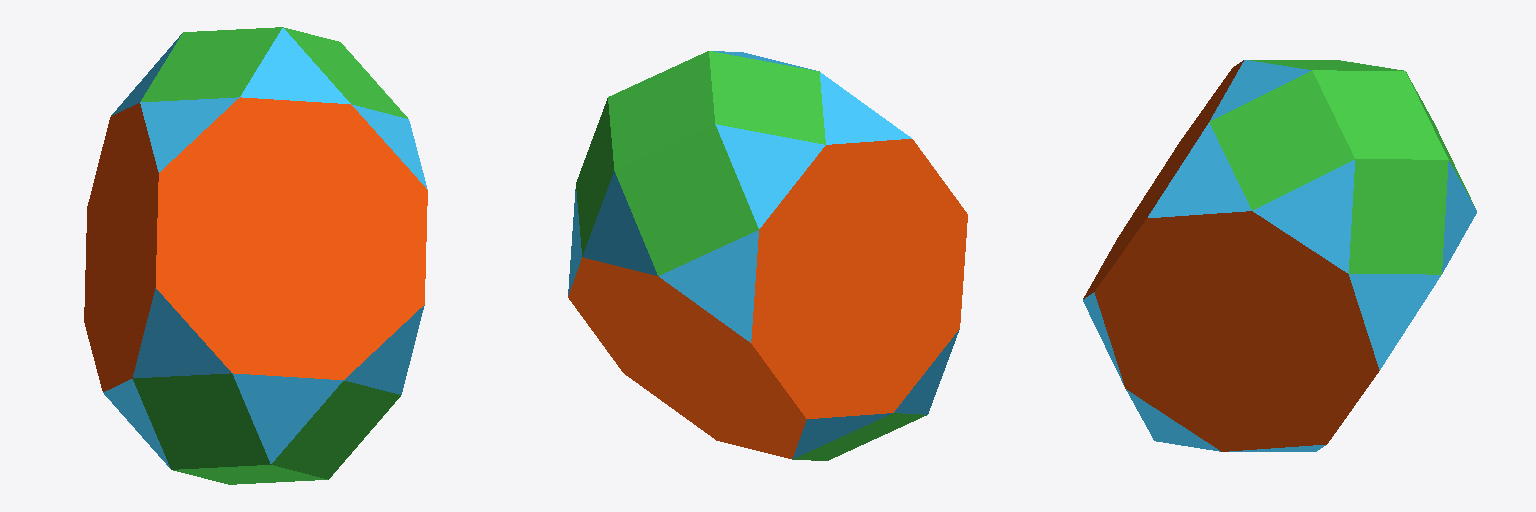
File: j67_biaugmented_truncated_cube.obj
3 views of the same model, side by side, from view 1: azimuth 30°, elevation 25°; view 2: azimuth 150°, elevation 25°; view 3: azimuth 270°, elevation 25° (orthographic).
Bounding box in the file's own units: 1.71 × 2.14 × 1.85.